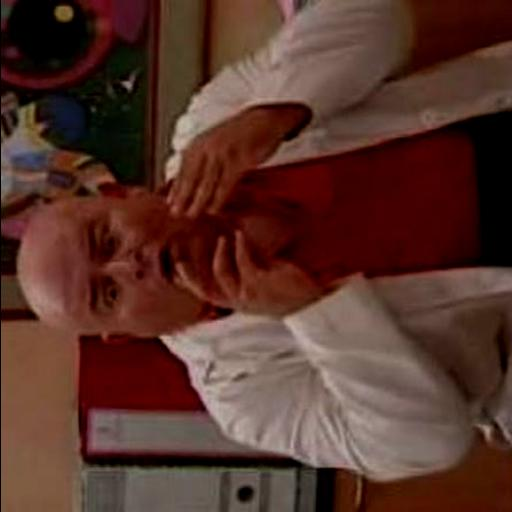sboui: (18, 185, 224, 341)
